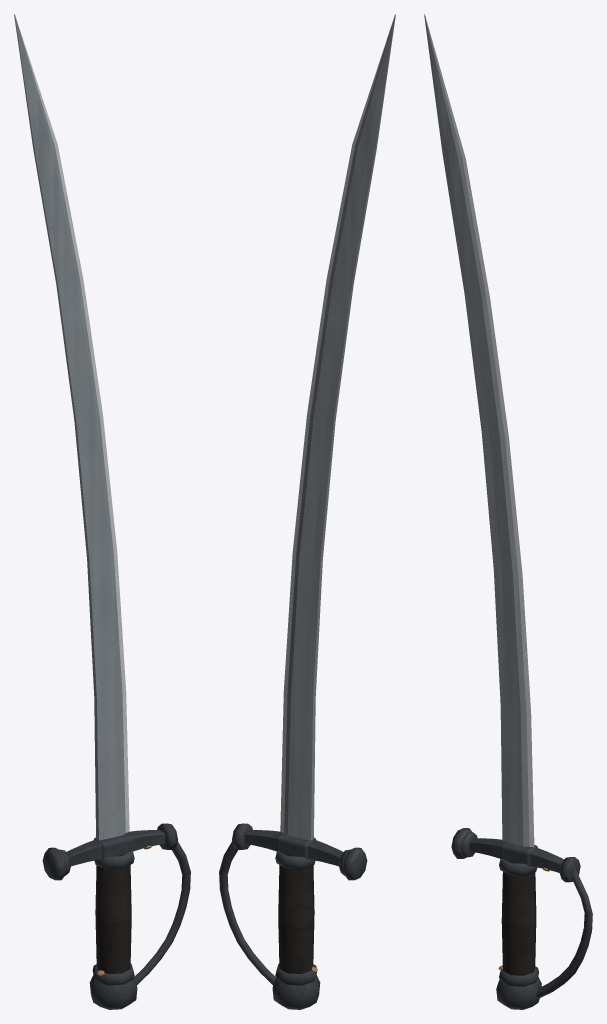
The model's file is saber.lod2.glb.
The picture shows the model from 3 angles, left to right: view 1: azimuth 30°, elevation 25°; view 2: azimuth 150°, elevation 25°; view 3: azimuth 330°, elevation 25°; orthographic projection. The views are drawn at different scales.
Parts seen in each view (by area): view 1: steel / forged blade steel, darksteel / oil-blackened fittings, leather / oiled leather wrap, edge / honed bright bevel; view 2: steel / forged blade steel, darksteel / oil-blackened fittings, leather / oiled leather wrap, edge / honed bright bevel; view 3: steel / forged blade steel, darksteel / oil-blackened fittings, edge / honed bright bevel, leather / oiled leather wrap.
Part boxes in pixels (x1=…): steel / forged blade steel: x1=14, y1=14, x2=125, y2=840; darksteel / oil-blackened fittings: x1=42, y1=823, x2=190, y2=1009; leather / oiled leather wrap: x1=95, y1=865, x2=131, y2=974; edge / honed bright bevel: x1=17, y1=21, x2=129, y2=832; steel / forged blade steel: x1=284, y1=14, x2=395, y2=840; darksteel / oil-blackened fittings: x1=219, y1=823, x2=367, y2=1009; leather / oiled leather wrap: x1=278, y1=865, x2=314, y2=974; edge / honed bright bevel: x1=280, y1=23, x2=392, y2=832; steel / forged blade steel: x1=424, y1=14, x2=529, y2=846; darksteel / oil-blackened fittings: x1=451, y1=828, x2=592, y2=1009; edge / honed bright bevel: x1=425, y1=15, x2=534, y2=847; leather / oiled leather wrap: x1=501, y1=872, x2=536, y2=975.
Size of the model in its own units: 0.1816 by 0.995 by 0.044.
5 materials, 4 textured.
